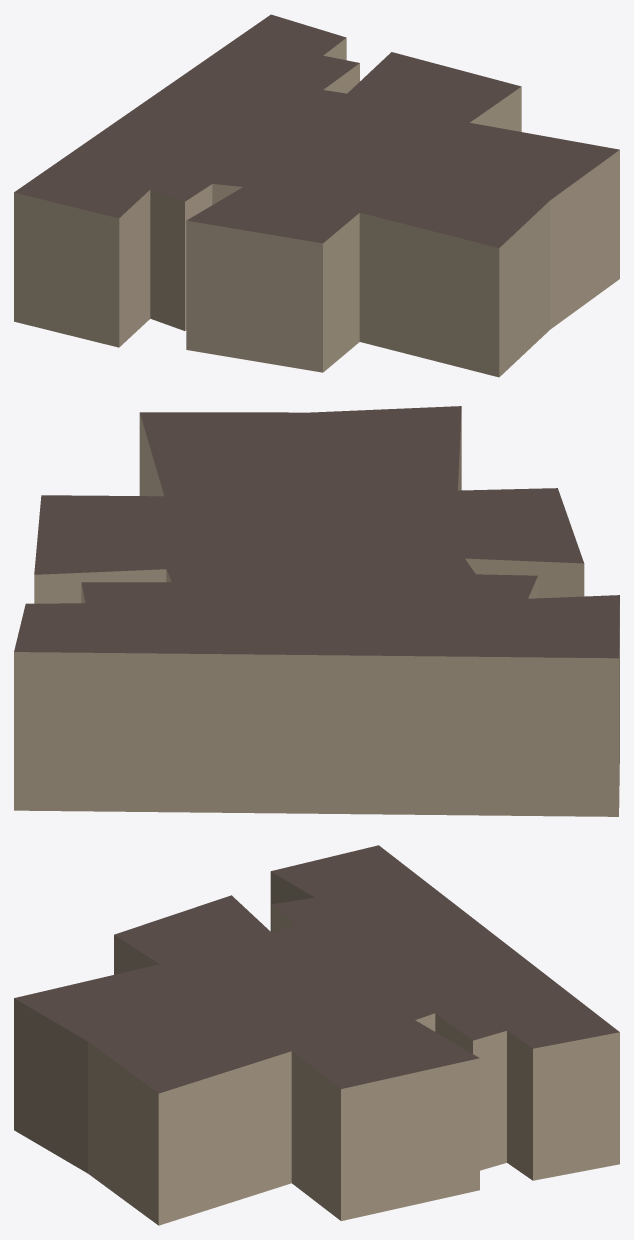
3 renders of one model, top to bottom at view 1: azimuth 30°, elevation 25°; view 2: azimuth 150°, elevation 25°; view 3: azimuth 270°, elevation 25°, orthographic. The views are drawn at different scales.
Visible parts, largest first — view 1: HP-w1512359833; view 2: HP-w1512359833; view 3: HP-w1512359833.
Boxes of the visible parts, x1,y1,x2,y2 form: HP-w1512359833: (14,14,619,377); HP-w1512359833: (14,406,619,816); HP-w1512359833: (14,845,619,1225).
Bounding box in the file's own units: 36.29 × 9 × 37.42.
